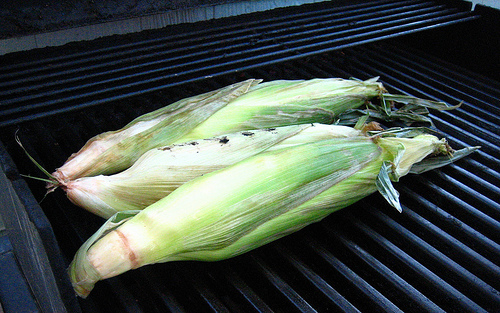corn: (65, 133, 491, 303), (50, 72, 383, 184), (65, 124, 377, 220)
